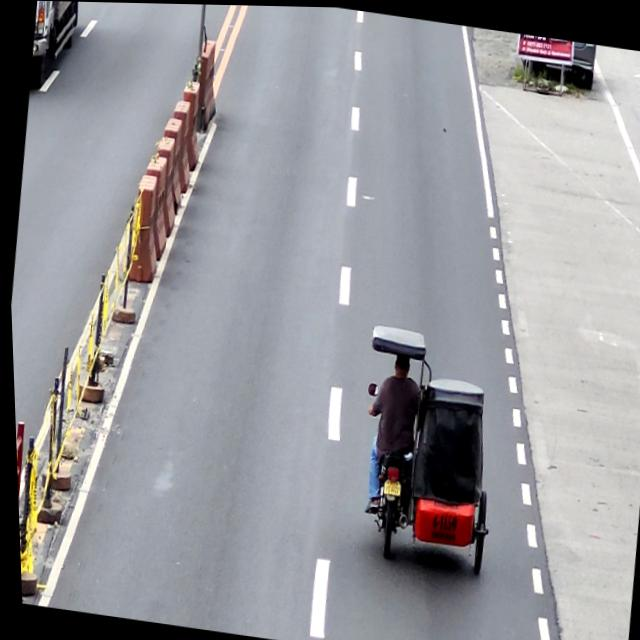License-Plate: (378, 476, 399, 496)
Tricycle: (341, 320, 508, 574)
